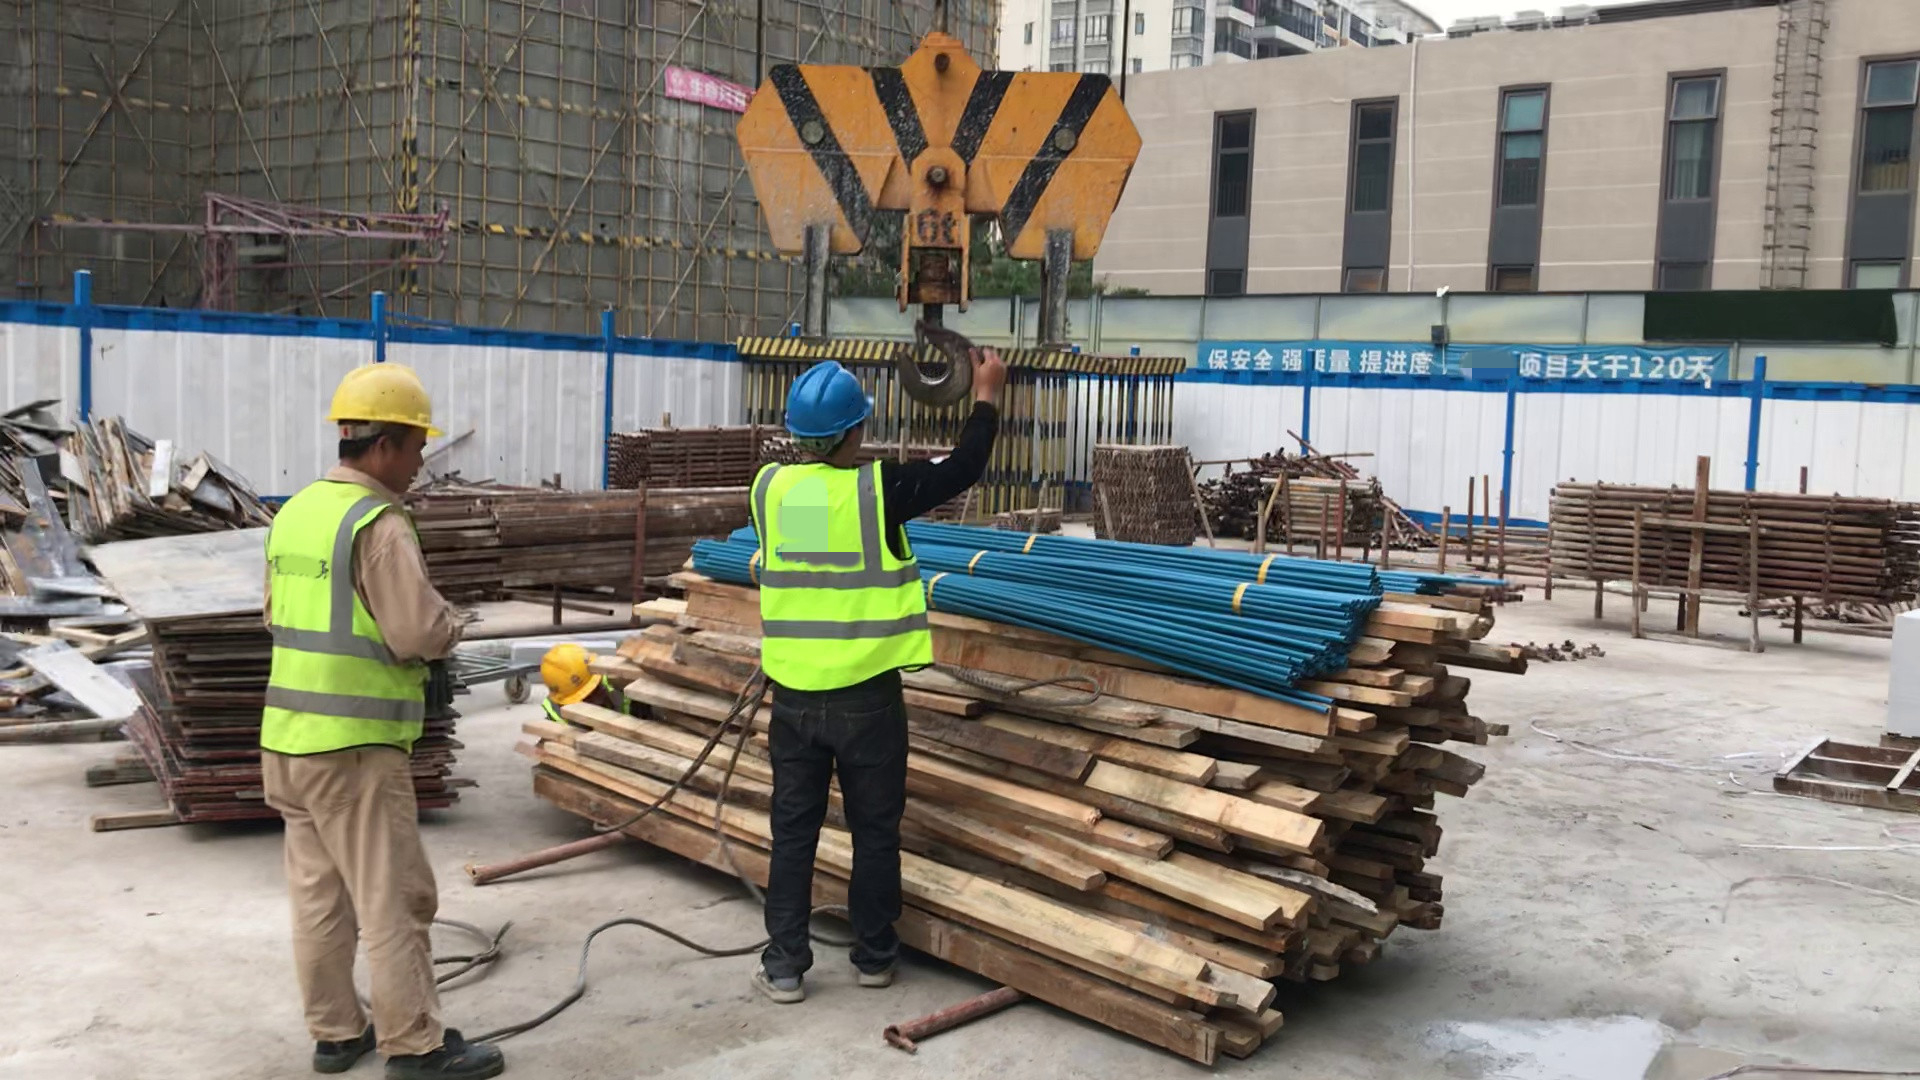board: (3, 397, 470, 826)
helmet: (323, 360, 438, 435), (782, 357, 877, 437)
hook: (726, 29, 1148, 405)
person: (245, 357, 520, 1080), (733, 351, 1016, 1009)
slogan: (1188, 333, 1735, 406)
vest: (250, 477, 432, 768), (745, 459, 942, 700)
wood: (518, 512, 1528, 1063)
